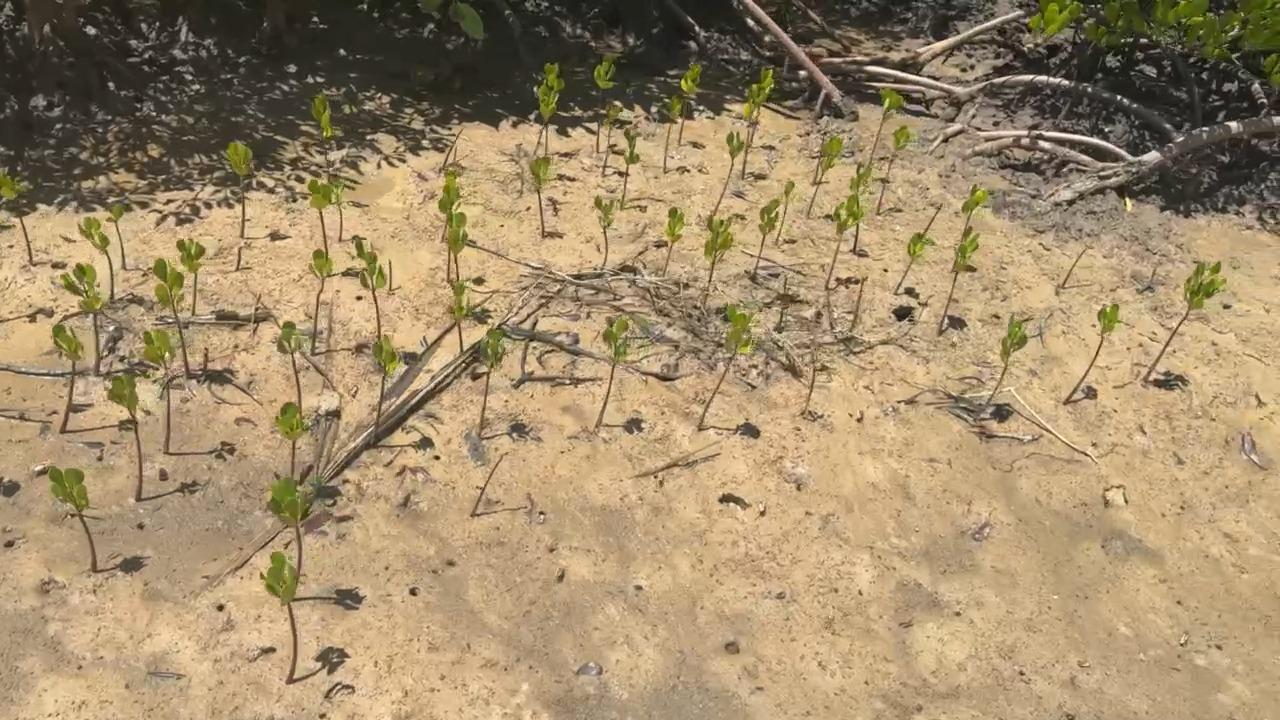Tree: (1144, 260, 1227, 381), (697, 303, 753, 424), (1061, 304, 1119, 405), (259, 551, 299, 684), (47, 466, 96, 573), (59, 261, 103, 376), (105, 373, 143, 502), (153, 259, 191, 380), (937, 232, 981, 334), (141, 329, 175, 454), (265, 475, 307, 575), (594, 319, 631, 430), (986, 313, 1028, 405), (824, 193, 863, 288), (51, 325, 84, 434), (354, 235, 388, 340), (369, 334, 399, 445), (77, 215, 115, 300), (951, 183, 986, 274), (478, 326, 506, 439), (804, 137, 843, 217), (222, 140, 253, 238), (876, 125, 909, 217), (307, 249, 334, 356), (0, 174, 32, 264), (867, 86, 903, 162), (712, 130, 744, 215), (894, 232, 935, 297), (470, 452, 509, 517), (740, 83, 765, 181), (176, 238, 206, 316), (274, 402, 305, 476), (593, 56, 617, 151), (677, 62, 703, 146), (276, 319, 301, 404), (542, 63, 565, 155), (850, 161, 873, 251), (703, 215, 733, 283), (529, 155, 552, 238), (750, 69, 774, 147), (308, 179, 333, 252), (533, 79, 557, 155), (661, 205, 685, 277), (755, 198, 780, 267), (662, 95, 683, 176), (619, 128, 640, 209), (445, 211, 468, 281), (310, 90, 332, 159), (438, 176, 460, 244), (599, 105, 620, 176), (105, 203, 126, 268), (449, 279, 467, 352), (776, 180, 796, 241), (594, 194, 614, 253), (1061, 247, 1088, 288), (446, 227, 467, 279), (327, 182, 344, 242), (441, 128, 463, 171), (851, 275, 869, 313), (803, 363, 817, 409), (811, 136, 825, 182), (923, 203, 943, 234), (777, 276, 788, 326), (235, 244, 242, 272), (386, 259, 392, 290), (202, 346, 208, 372)
